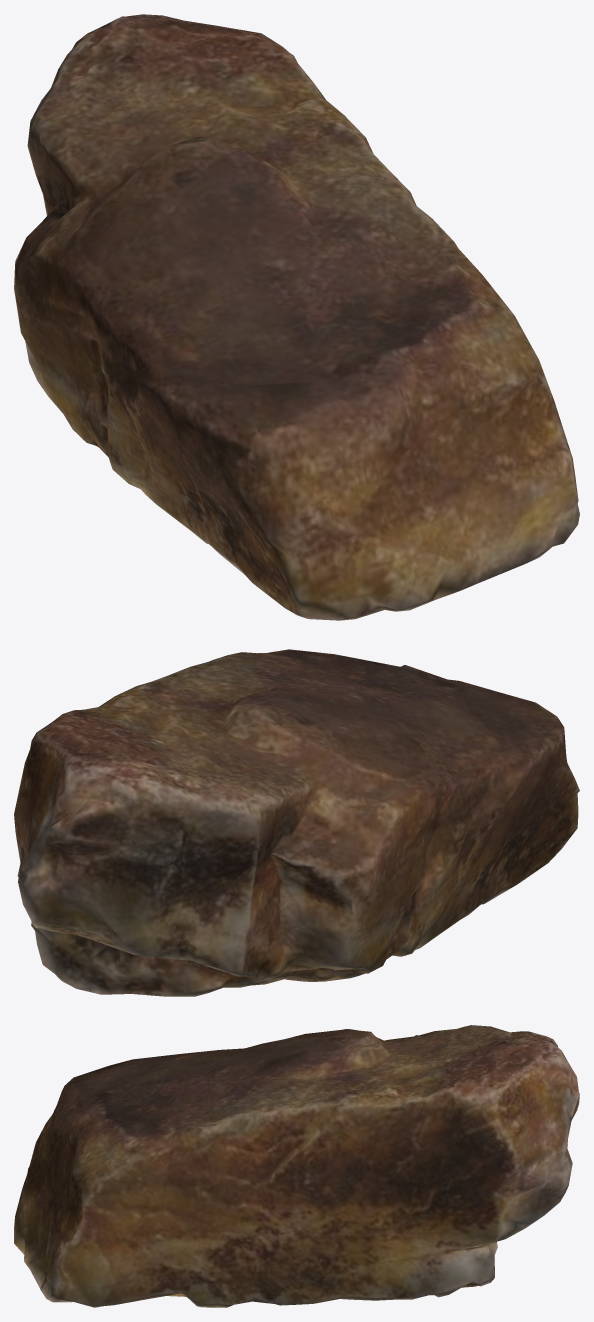
Rendered from rock_07.glb.
The picture shows the model from 3 angles, top to bottom: view 1: azimuth 30°, elevation 25°; view 2: azimuth 150°, elevation 25°; view 3: azimuth 270°, elevation 25°; orthographic projection. The views are drawn at different scales.
Size of the model in its own units: 0.1681 by 0.1437 by 0.3199.
Materials: 1 (1 with a texture image).
